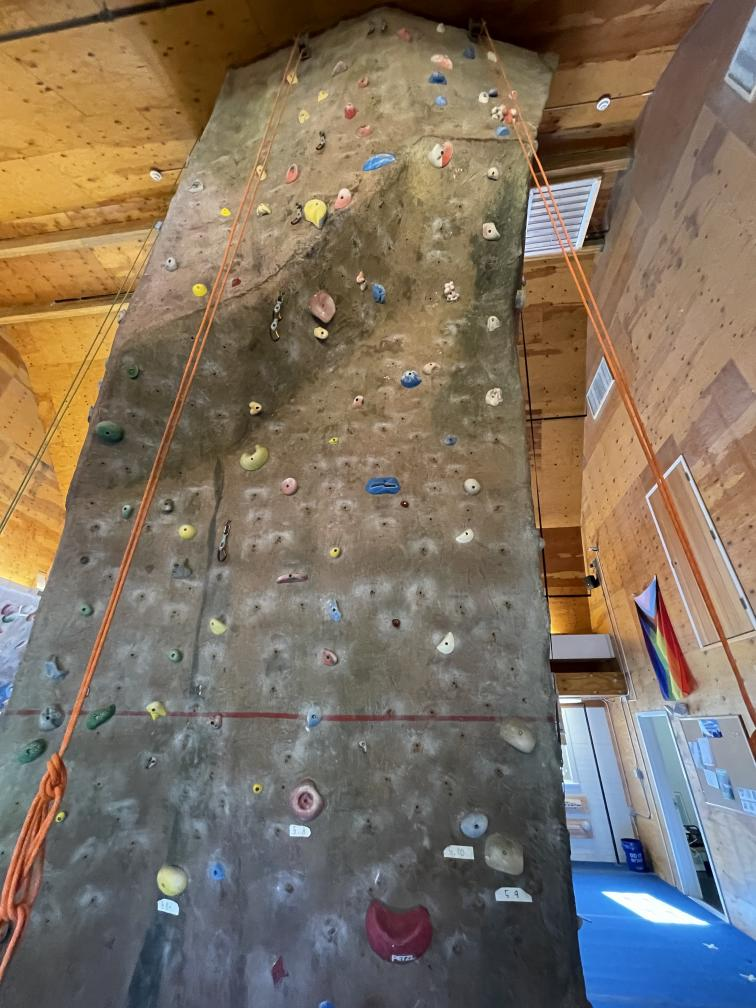Crimp: (433, 629, 458, 658), (482, 384, 506, 408), (453, 526, 479, 544), (329, 59, 351, 79), (329, 598, 343, 624), (316, 88, 331, 104), (442, 435, 459, 447), (228, 275, 242, 288), (486, 51, 499, 63)
Edges: (359, 153, 399, 173)
Foothold: (267, 955, 290, 989), (209, 861, 228, 884), (246, 780, 268, 798), (283, 163, 302, 183), (177, 524, 198, 541), (186, 178, 209, 193), (125, 365, 141, 380), (329, 546, 342, 560), (356, 76, 370, 88), (55, 811, 67, 824), (390, 618, 402, 628), (400, 500, 411, 510)
Jug: (362, 899, 435, 965), (482, 832, 526, 880), (497, 713, 537, 760), (308, 288, 339, 324), (426, 139, 457, 173), (303, 198, 330, 231), (43, 652, 69, 683), (94, 420, 125, 443), (173, 554, 200, 578), (304, 703, 325, 732), (490, 104, 520, 124), (146, 701, 171, 723), (428, 52, 456, 71), (480, 220, 503, 242), (333, 185, 351, 212), (442, 279, 462, 303), (209, 616, 230, 637), (462, 477, 484, 497), (372, 280, 388, 305), (461, 45, 480, 64), (320, 648, 340, 666), (280, 478, 299, 496), (422, 361, 444, 375), (159, 498, 176, 516), (485, 315, 502, 333), (166, 648, 184, 665), (395, 28, 414, 44), (163, 256, 179, 272), (119, 501, 132, 520), (248, 402, 264, 417), (76, 603, 94, 616), (486, 166, 500, 182), (297, 109, 310, 125), (287, 69, 298, 87), (352, 395, 365, 410), (313, 328, 329, 340), (477, 90, 489, 104), (257, 165, 267, 181), (487, 86, 498, 97), (436, 22, 445, 34), (508, 90, 518, 100)
Pinch: (36, 703, 65, 734), (270, 569, 313, 585), (342, 100, 360, 121), (427, 69, 449, 86), (356, 268, 369, 296), (254, 201, 273, 219), (494, 124, 511, 137), (327, 436, 341, 446), (220, 208, 232, 216)
Pocket: (288, 780, 333, 822), (355, 124, 376, 137)
Sloper: (153, 863, 191, 898), (458, 810, 489, 840), (238, 444, 269, 471), (85, 704, 117, 730), (16, 738, 47, 764), (364, 476, 403, 495), (399, 370, 422, 388), (190, 281, 209, 296), (435, 96, 448, 108)
